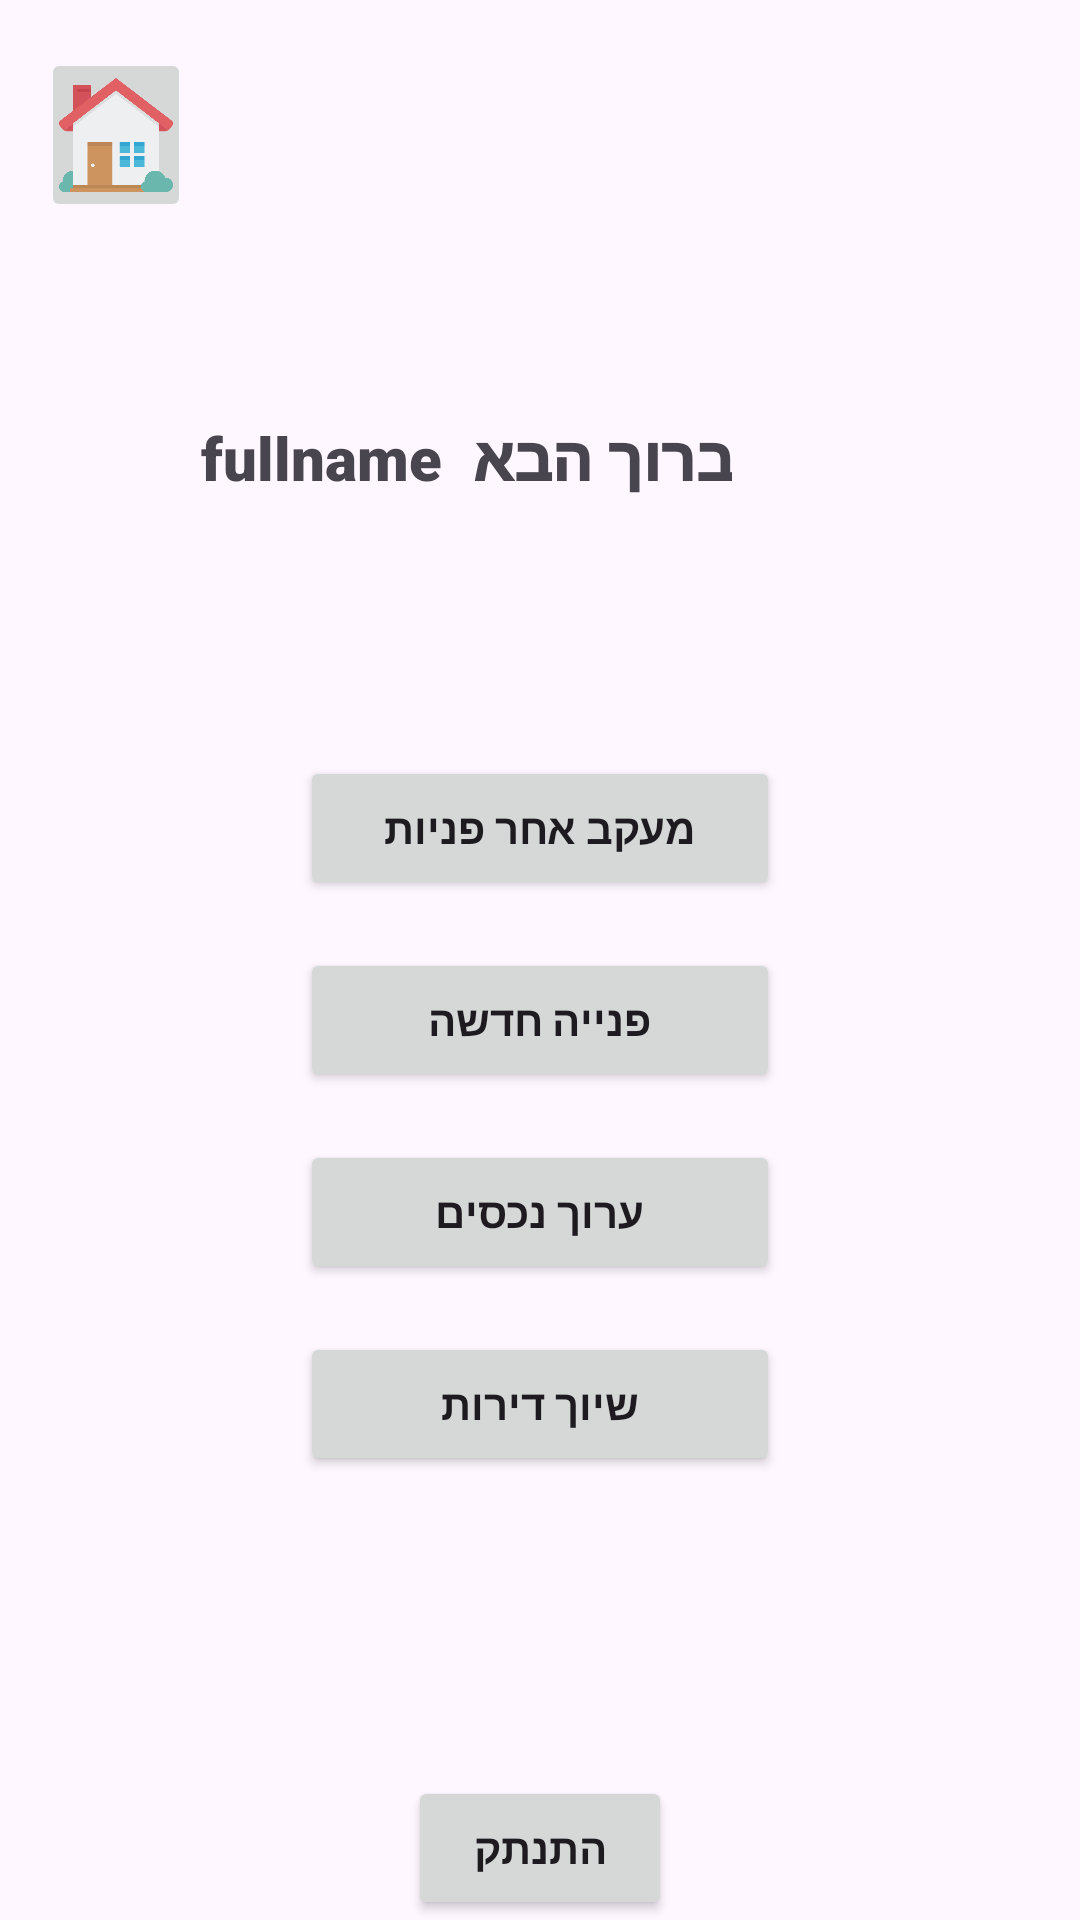

Screen size 1080w x 1920h. Icon name, then its box in pixels as (x1, y1, x2, y2):
Home button for renter homepage: (53, 66, 179, 204)
